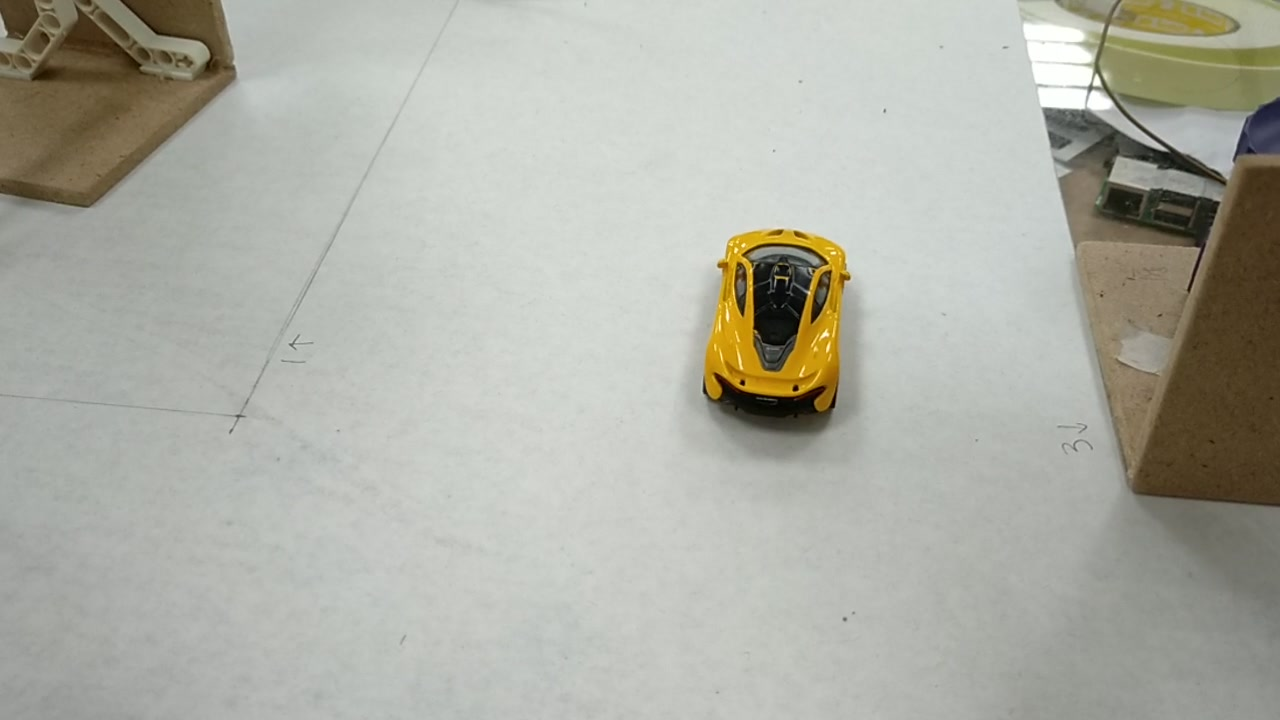car: (704, 226, 848, 415)
